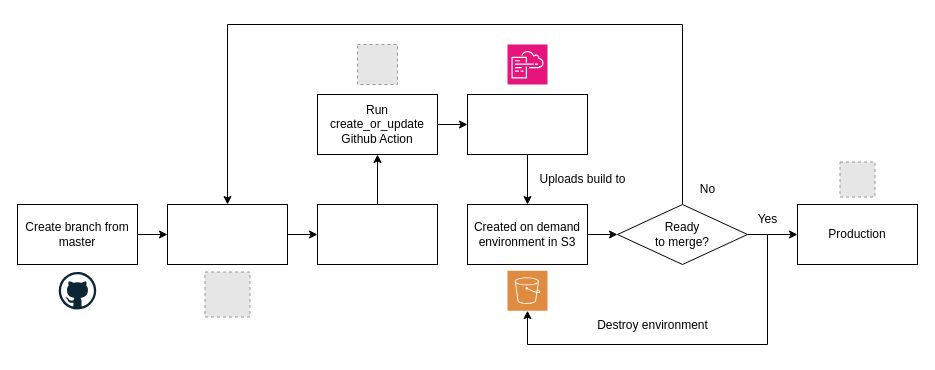
Some shapes in this 935 by 370 pixel diagram are drawn without their labels. Grey dashed boxes stand in for pictures. Each missing label, with the centre of its shape:
"Add changes to the created branch" goes at pixel 227 234.
"Create Pull Request" goes at pixel 377 234.
"Runs cloudformation template & creates cloud resources" goes at pixel 527 124.
